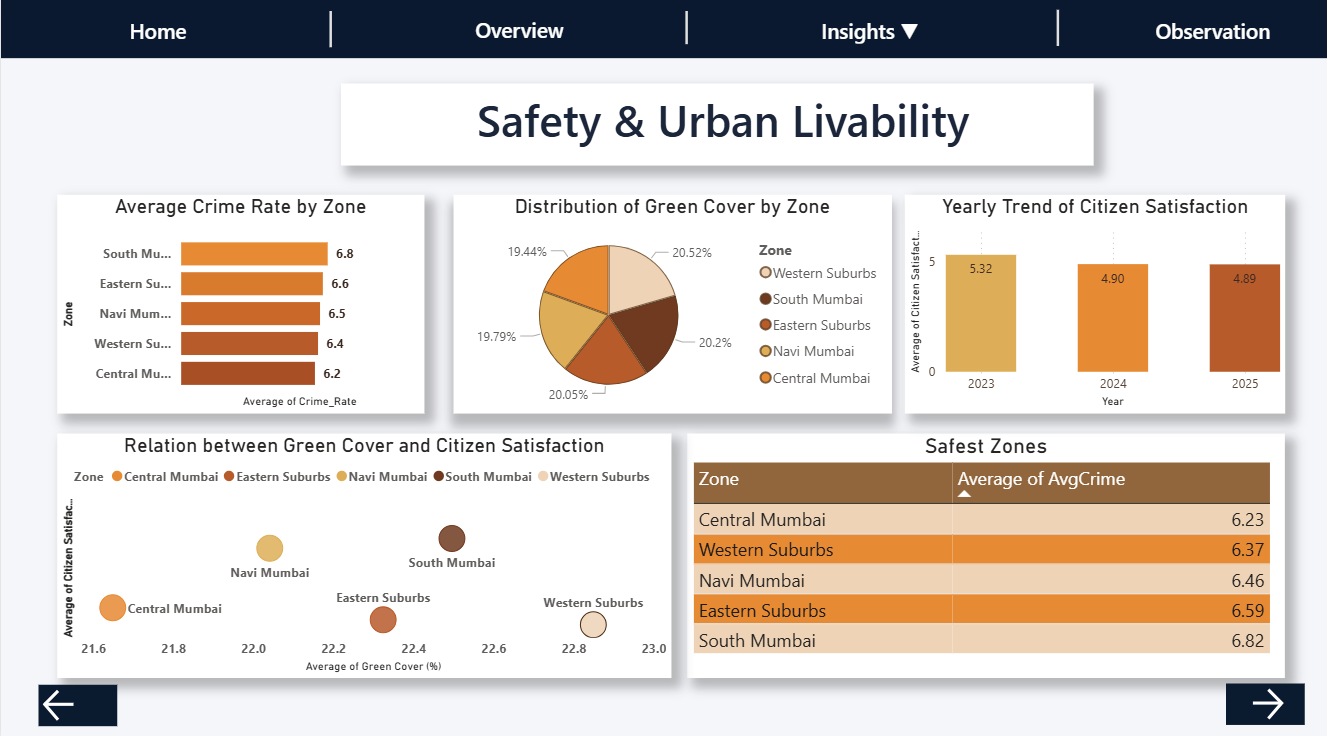

This screenshot's page, from the dashboard's own definition file:
{"tool":"powerbi","page":{"name":"Safety & Urban Livability","canvas":[1280,720],"ordinal":4},"visuals":[{"type":"textbox","box":[327.7,84.3,726,79],"z":0},{"type":"barChart","title":"Average Crime Rate by Zone","fields":{"Category":["Sheet1.Zone"],"Y":["Avg(Sheet1.Crime_Rate)"]},"box":[54.2,191.6,354.2,210.8],"z":1000},{"type":"pieChart","title":"Distribution of Green Cover by Zone","fields":{"Category":["Sheet1.Zone"],"Y":["Avg(Sheet1.Green Cover (%))"]},"box":[436.1,191.6,422.9,210.8],"z":2000},{"type":"tableEx","title":"Safest Zones","fields":{"Values":["TopSafeZones.Zone","Avg(TopSafeZones.AvgCrime)"]},"box":[662.7,421.7,577.1,236.1],"z":3000},{"type":"columnChart","title":"Yearly Trend of Citizen Satisfaction","fields":{"Category":["Sheet1.Date.Variation.Date Hierarchy.Year"],"Y":["Avg(Sheet1.Citizen Satisfaction)"]},"box":[872.3,191.6,367.5,210.8],"z":4000},{"type":"scatterChart","title":"Relation between Green Cover and Citizen Satisfaction","fields":{"X":["Avg(Sheet1.Green Cover (%))"],"Y":["Avg(Sheet1.Citizen Satisfaction)"],"Series":["Sheet1.Zone"]},"box":[54.2,421.7,592.8,236.1],"z":5000},{"type":"shape","box":[0,0,1280,60.2],"z":6000},{"type":"actionButton","title":"Home","box":[101.3,13.3,100.1,39.8],"z":7000},{"type":"shape","box":[167.7,14.5,301,35],"z":8000},{"type":"actionButton","title":"Introduction","box":[436.7,12.1,127,39.8],"z":9000},{"type":"shape","box":[511.5,14.5,300.4,32],"z":10000},{"type":"actionButton","title":"Dashboard ▼","box":[767.3,13.3,142.4,39.8],"z":11000},{"type":"shape","box":[869.8,13.3,300.4,35],"z":12000},{"type":"actionButton","title":"Conclusion","box":[1108.7,13.3,121.9,39.8],"z":13000},{"type":"actionButton","box":[36.1,665.1,75.9,39.8],"z":14000},{"type":"actionButton","box":[1181.9,663.9,75.9,39.8],"z":15000}]}

Visuals, with their boxes in screenshot pixels (x1, y1, x2, y2), scaled from the page's 1280x720 canvas onto the 1327x736 screenshot:
textbox: BBox(340, 86, 1092, 167)
"Average Crime Rate by Zone" barChart: BBox(56, 196, 423, 411)
"Distribution of Green Cover by Zone" pieChart: BBox(452, 196, 891, 411)
"Safest Zones" tableEx: BBox(687, 431, 1285, 672)
"Yearly Trend of Citizen Satisfaction" columnChart: BBox(904, 196, 1285, 411)
"Relation between Green Cover and Citizen Satisfaction" scatterChart: BBox(56, 431, 671, 672)
shape: BBox(0, 0, 1326, 62)
"Home" actionButton: BBox(105, 14, 209, 54)
shape: BBox(174, 15, 486, 51)
"Introduction" actionButton: BBox(453, 12, 584, 53)
shape: BBox(530, 15, 842, 48)
"Dashboard ▼" actionButton: BBox(795, 14, 943, 54)
shape: BBox(902, 14, 1213, 49)
"Conclusion" actionButton: BBox(1149, 14, 1276, 54)
actionButton: BBox(37, 680, 116, 721)
actionButton: BBox(1225, 679, 1304, 719)
